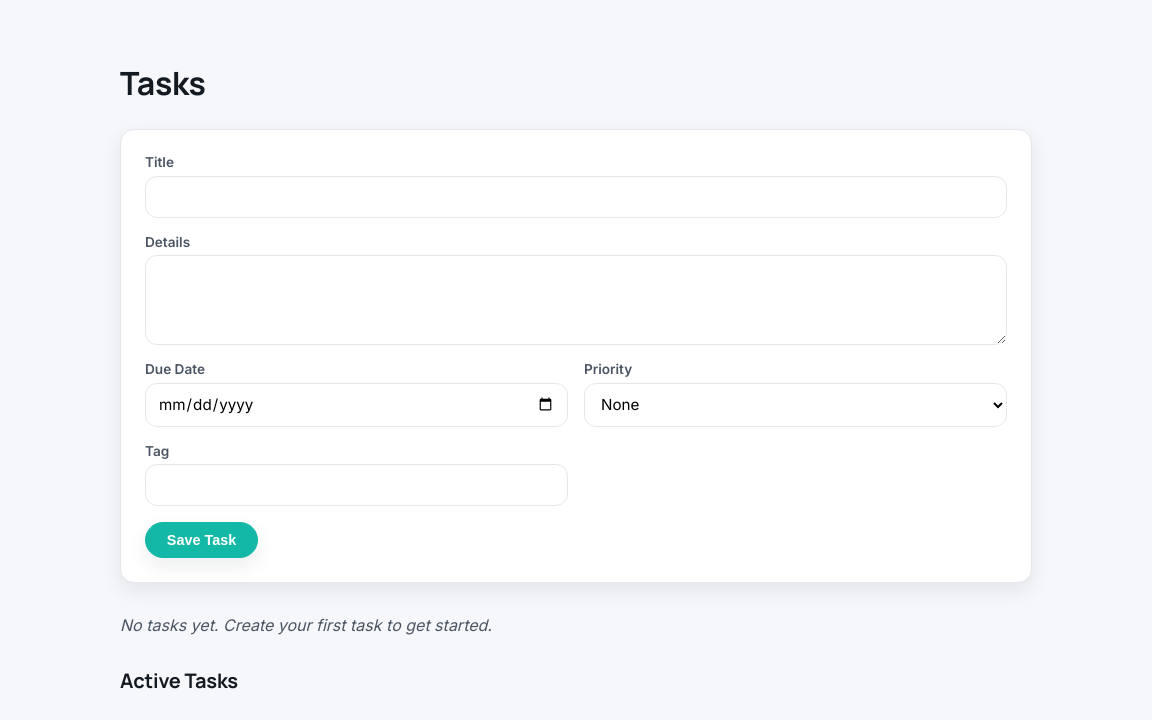
it: Task experience (US-001 + US-002 + US-003 + US-004) › creates a new active task with valid title and shows it in list
In the field labelled "Title": (576, 197) [145, 176, 1007, 218], type "Buy milk"
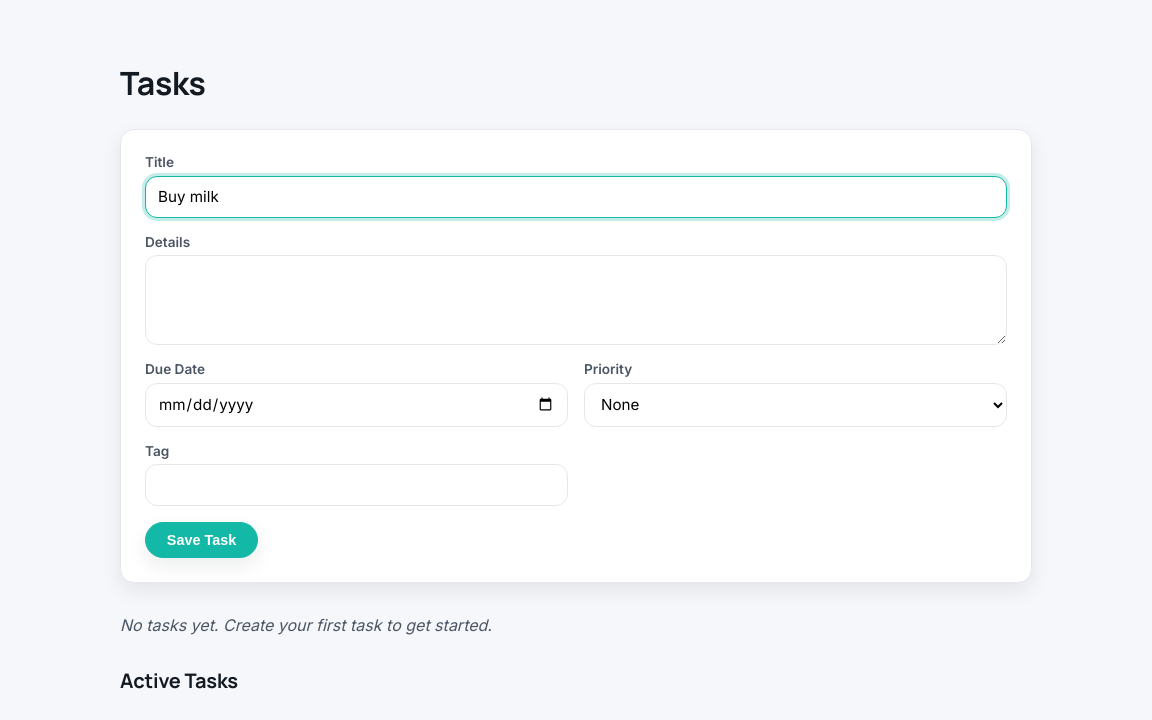
Click the button "Save Task": (201, 540) [145, 522, 258, 558]
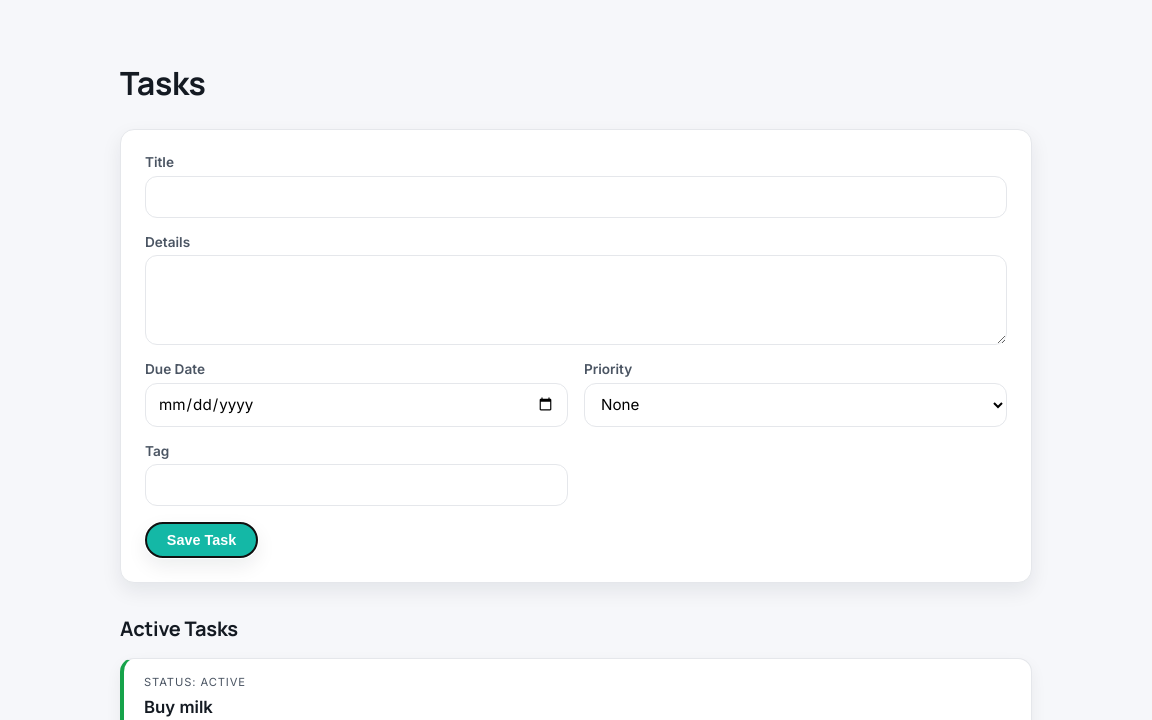
Result: the text "Buy milk" is shown at [144, 697, 213, 717]
